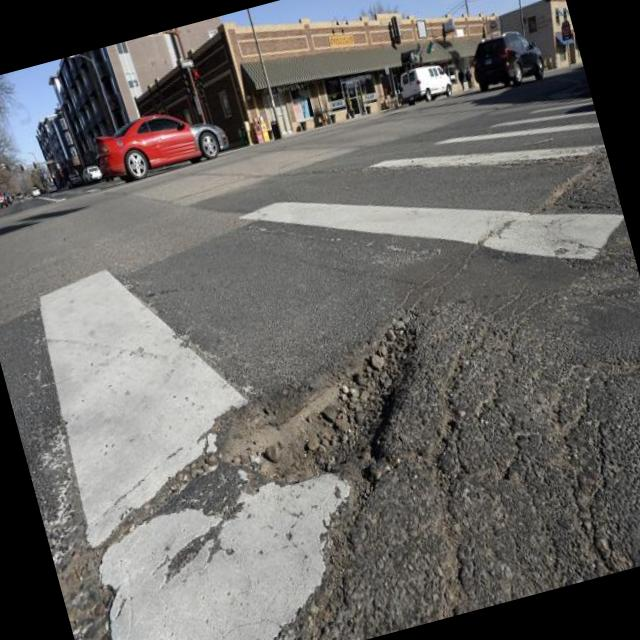Potholes: (152, 253, 512, 606)
